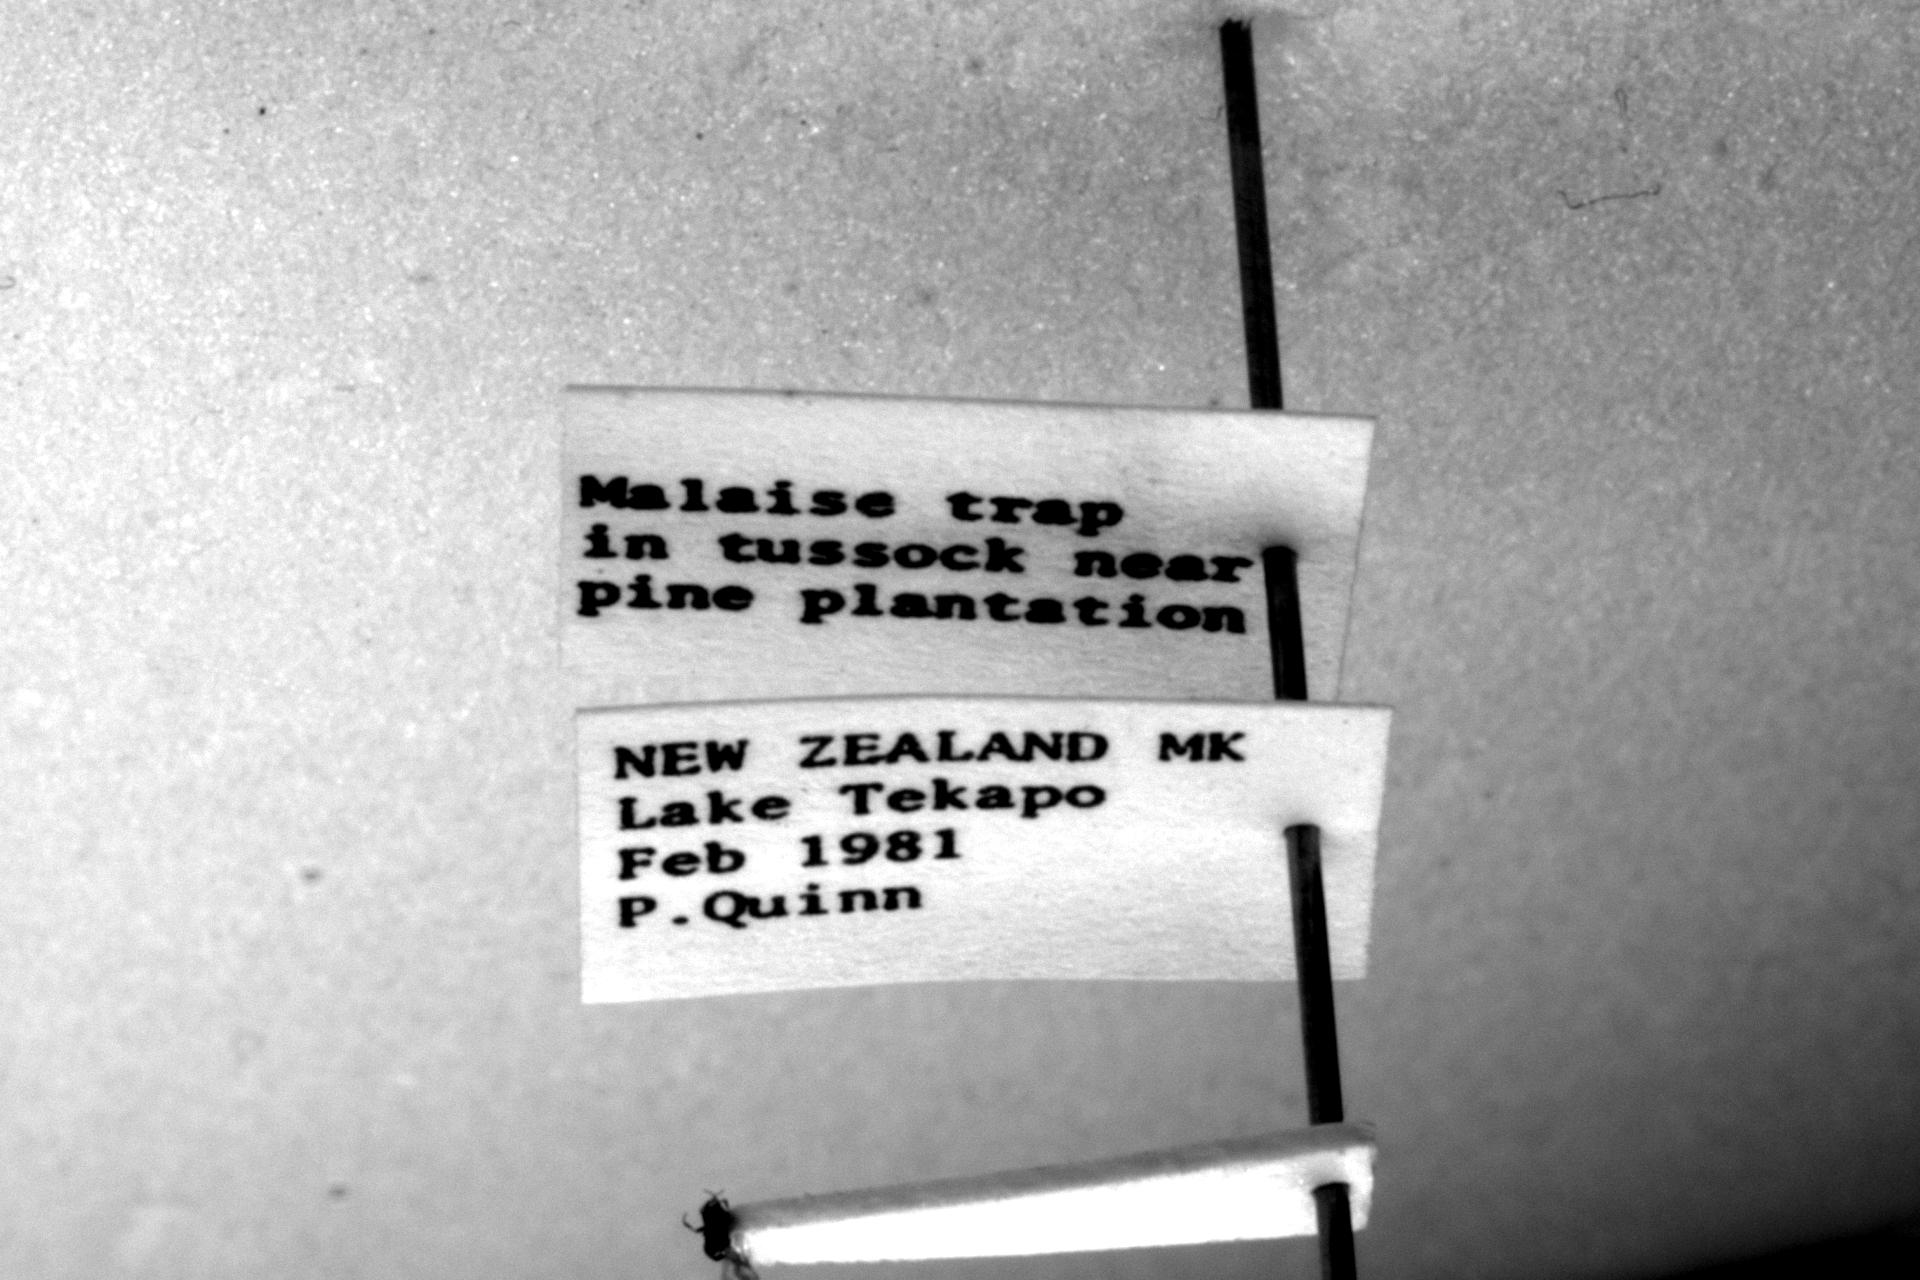typed_label: (563, 386, 1373, 701), (577, 697, 1391, 1001)
